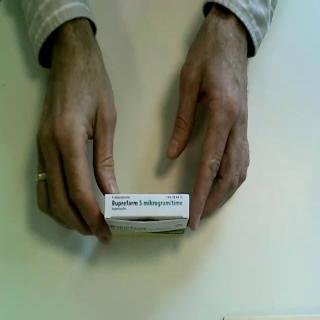buprefarm5ug_hour: (103, 192, 191, 240)
